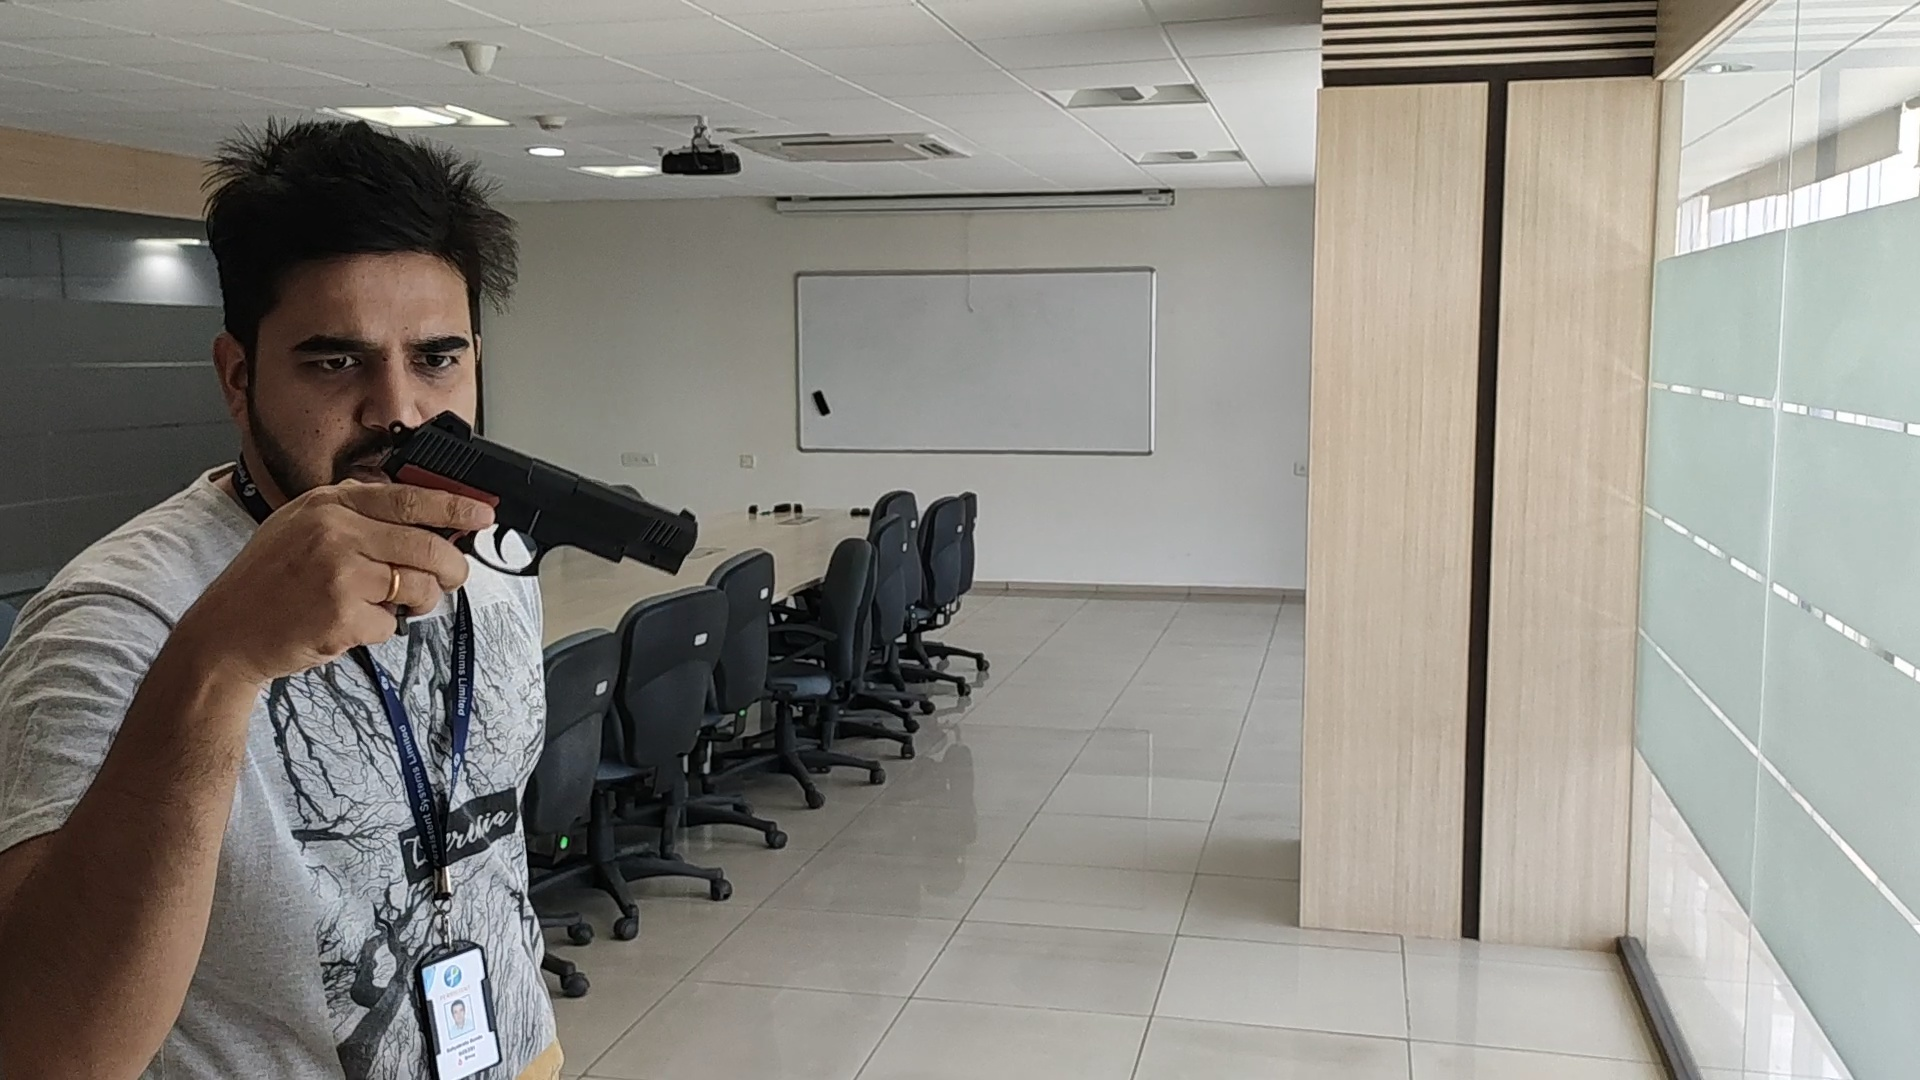gun: (400, 410, 702, 582)
